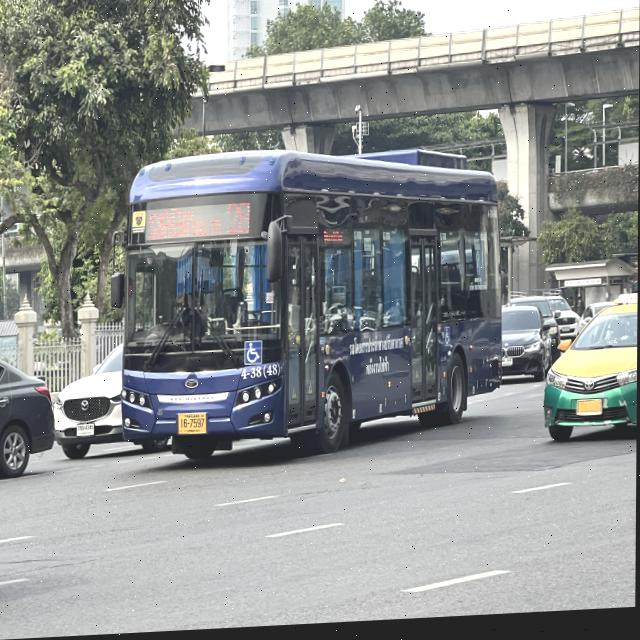Bus Line Number: (224, 203, 256, 240)
Bus Side Number: (241, 365, 281, 383)
Destination Sign: (146, 205, 224, 242)
TSB-Bus: (118, 154, 503, 466)
